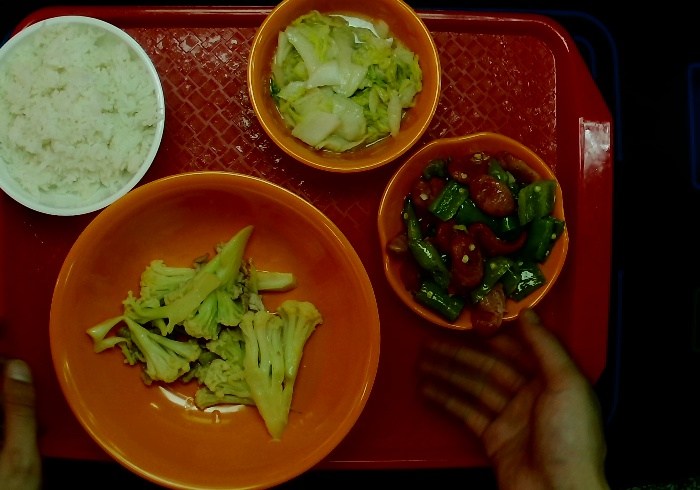YKMZ-Fan_Wan: (1, 9, 178, 226)
YKMZ-Ju_Se_Ao_Bian_Wan: (374, 126, 568, 331)
YKMZ-Ju_Se_Tang_Wan: (43, 165, 383, 490)
YKMZ-Ju_Se_Yuan_Wan: (240, 1, 448, 178)
